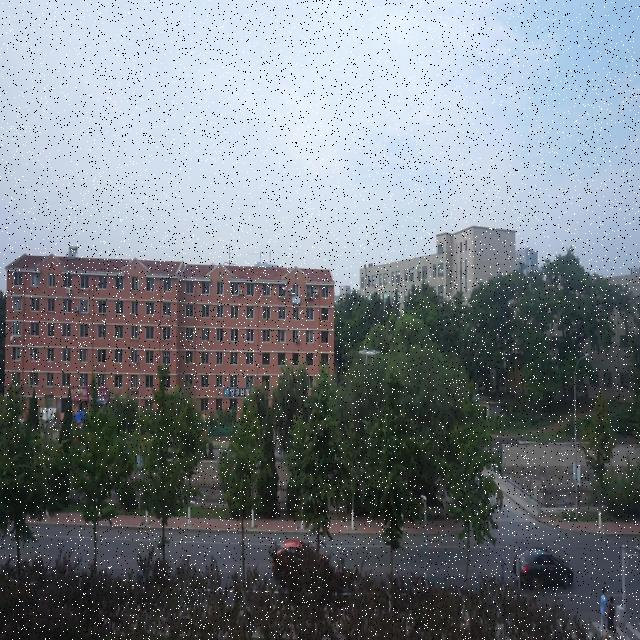UAV: (358, 350, 381, 366)
